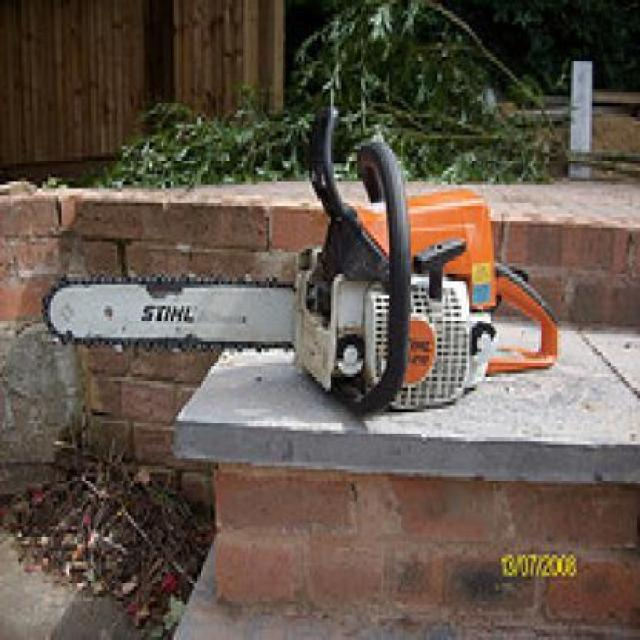Chainsaw: (41, 97, 562, 421)
